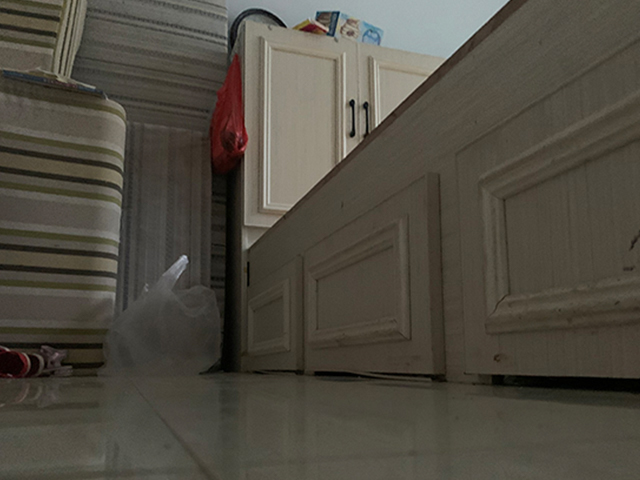bed: (228, 1, 640, 387)
